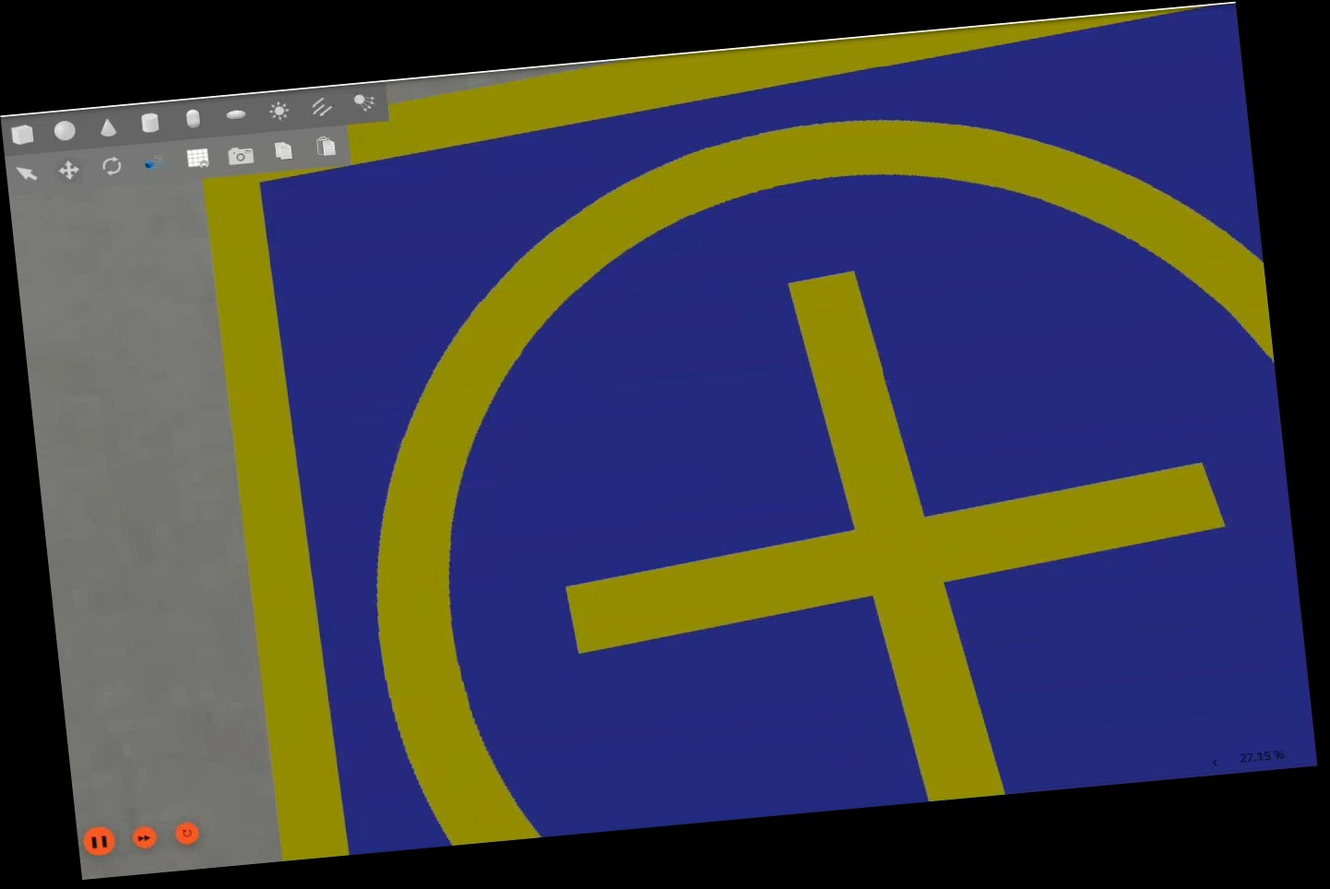small_base: (197, 2, 1314, 863)
